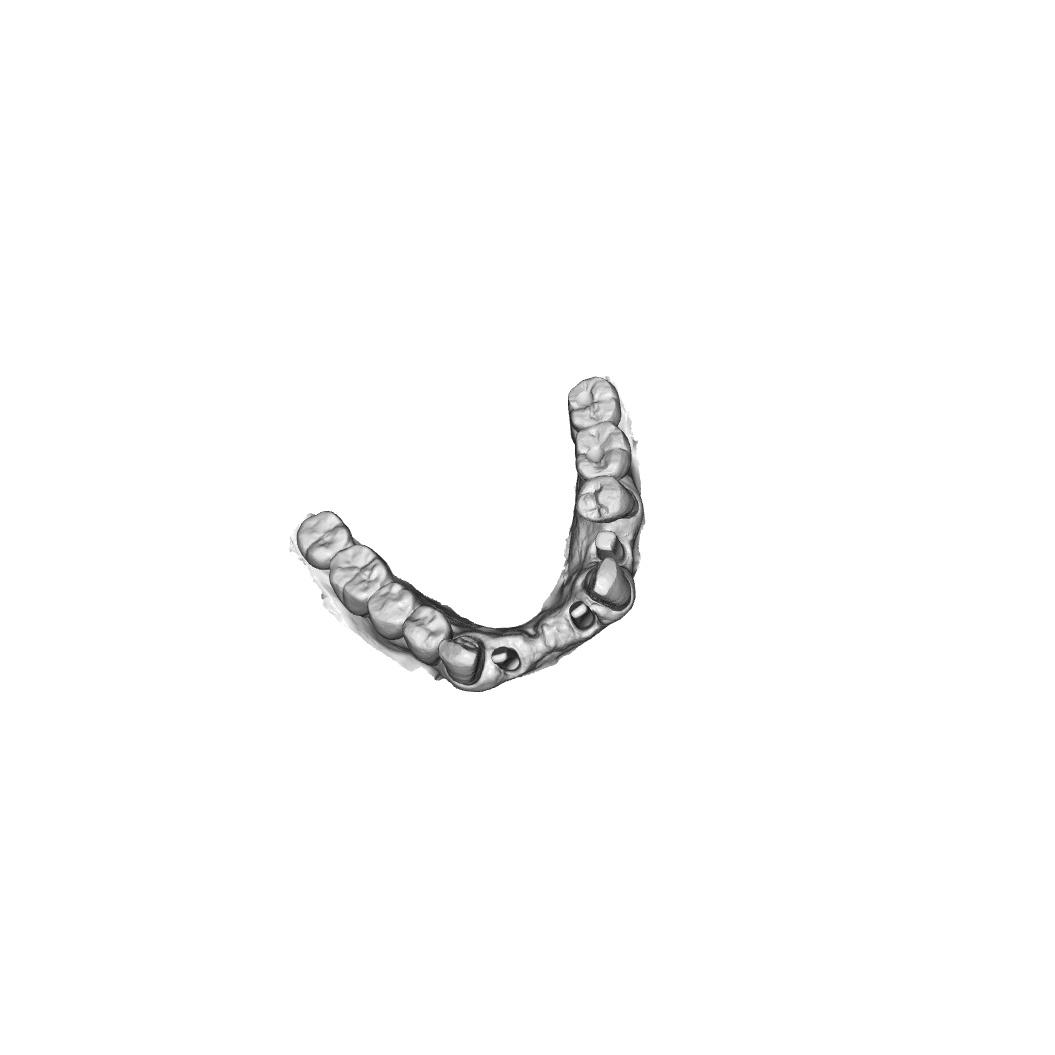abutment: (593, 529, 626, 565), (568, 600, 597, 632), (490, 644, 522, 673)
canine: (587, 556, 633, 610), (437, 634, 484, 686)
molar: (328, 543, 392, 617), (571, 420, 633, 480), (296, 510, 353, 571), (566, 375, 623, 432)
premolar: (401, 602, 454, 667), (365, 581, 419, 641), (575, 475, 634, 525)
